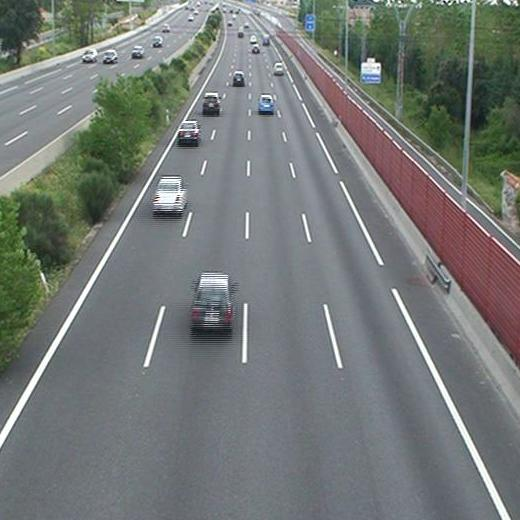car: (190, 274, 233, 329), (153, 176, 187, 211), (179, 121, 199, 141), (203, 93, 220, 111), (258, 95, 274, 111), (233, 72, 245, 84), (274, 63, 284, 75), (250, 45, 259, 53), (248, 35, 255, 42)
van: (262, 33, 269, 45)
